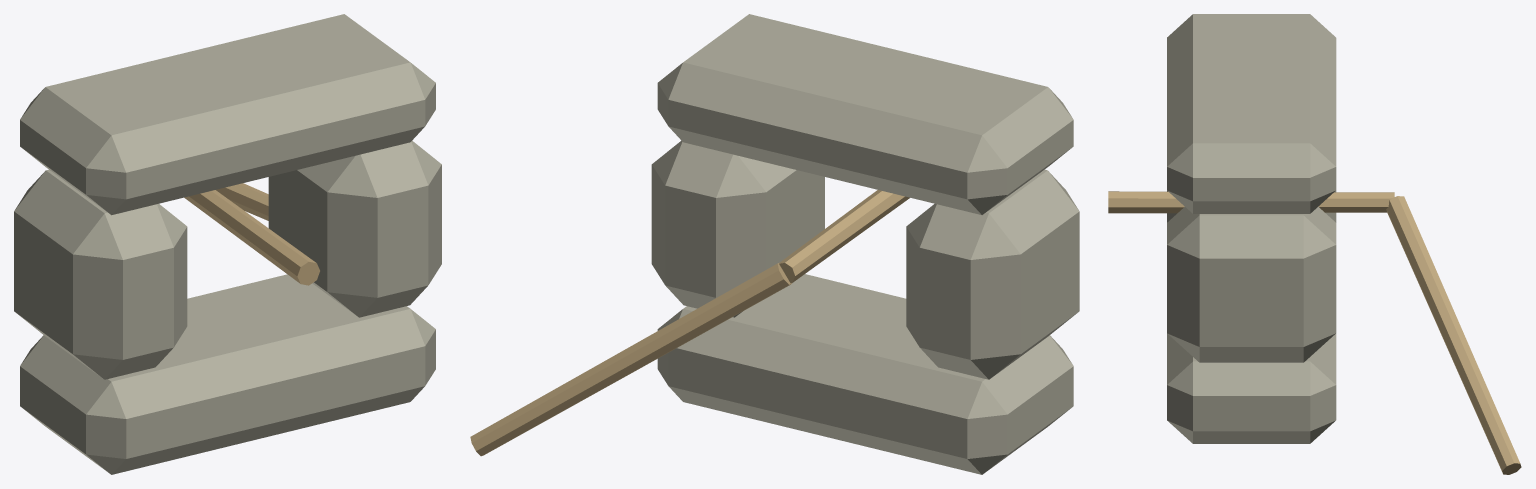
3 renders of one model, left to right at view 1: azimuth 30°, elevation 25°; view 2: azimuth 150°, elevation 25°; view 3: azimuth 270°, elevation 25°, orthographic. The views are drawn at different scales.
Parts seen in each view (by area): view 1: CE-035 Pierced stone mooring anchor batched; view 2: CE-035 Pierced stone mooring anchor batched; view 3: CE-035 Pierced stone mooring anchor batched.
Part boxes in pixels (x1,y1,x2,y2): CE-035 Pierced stone mooring anchor batched: (14,14,441,474); CE-035 Pierced stone mooring anchor batched: (470,14,1079,474); CE-035 Pierced stone mooring anchor batched: (1108,14,1521,474).
Bounding box in the file's own units: 0.6807 × 0.51 × 0.6348.
